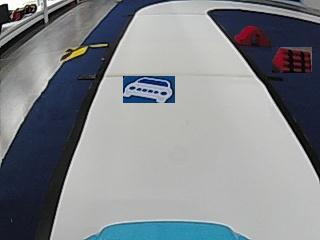bridge: (236, 23, 270, 46)
